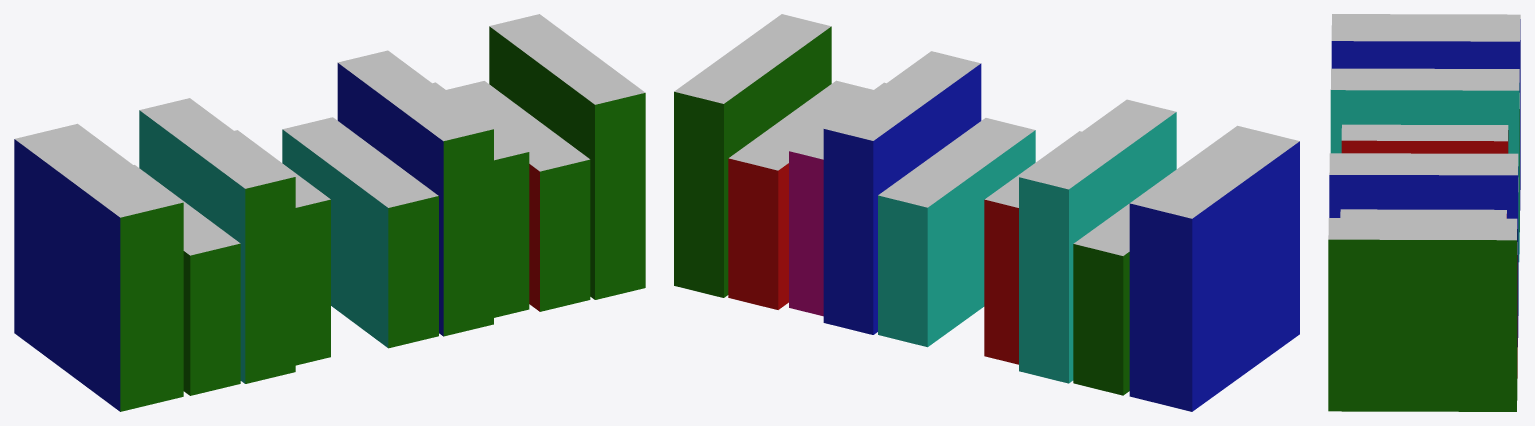
File: Books1.obj
The picture shows the model from 3 angles, left to right: view 1: azimuth 30°, elevation 25°; view 2: azimuth 150°, elevation 25°; view 3: azimuth 270°, elevation 25°; orthographic projection. The views are drawn at different scales.
Parts seen in each view (by area): view 1: Livros2; view 2: Livros2; view 3: Livros2.
Part boxes in pixels (<box>): Livros2: <box>14,14,645,411</box>; Livros2: <box>674,14,1299,411</box>; Livros2: <box>1328,14,1520,411</box>.
Bounding box in the file's own units: 4.34 × 1.55 × 1.56.
